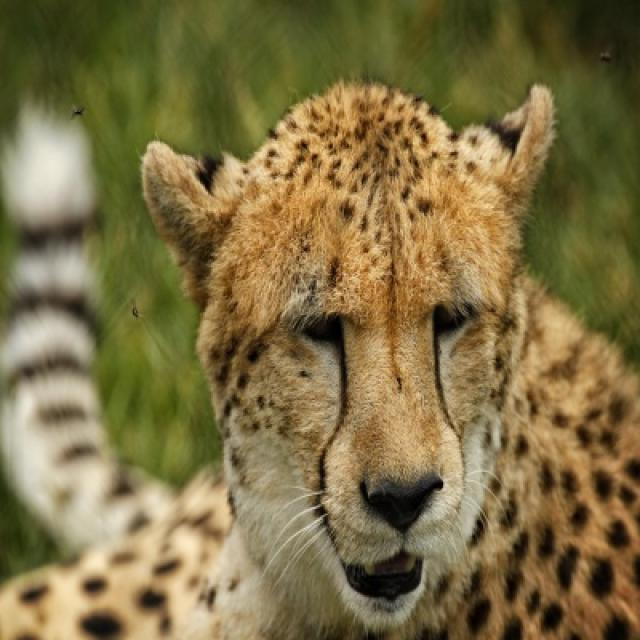Cheetah: (0, 80, 638, 638)
